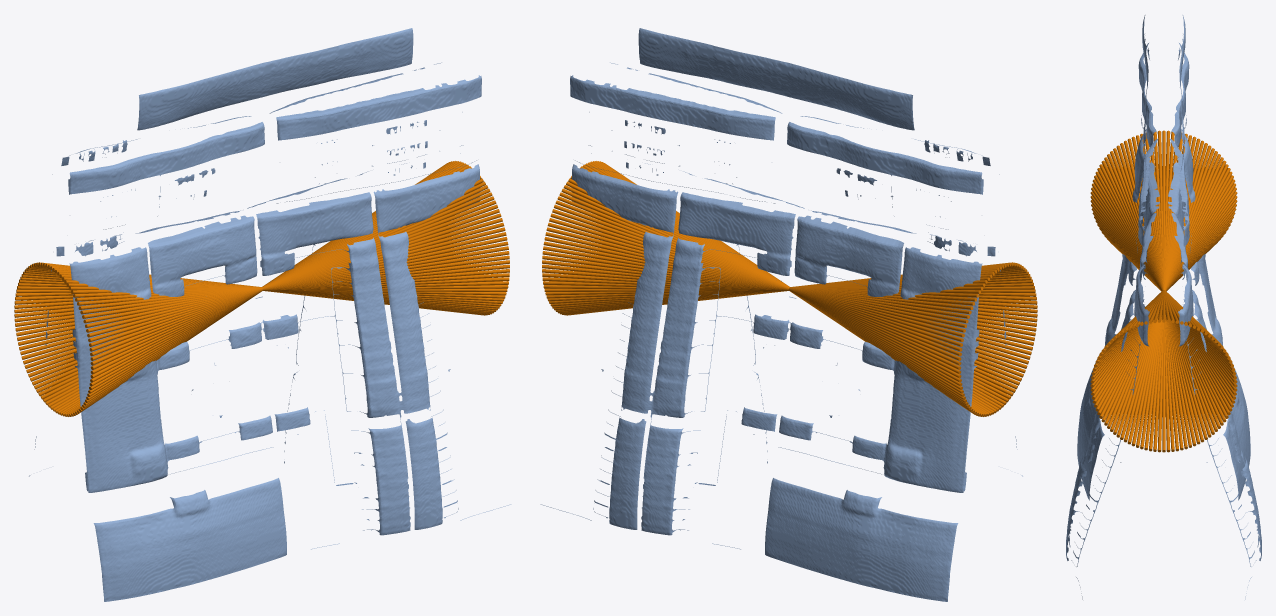
File: Q65090455_6150-37-547-0692_DigitalTwin.glb
3 views of the same model, side by side, from view 1: azimuth 30°, elevation 25°; view 2: azimuth 150°, elevation 25°; view 3: azimuth 270°, elevation 25° (orthographic). The views are drawn at different scales.
Visible parts, largest first — view 1: world; view 2: world; view 3: world.
Part boxes in pixels (box(x1,y1,x2,y2)): world: box(14, 28, 511, 601); world: box(540, 28, 1037, 601); world: box(1066, 15, 1261, 599).
Size of the model in its own units: 521 by 557 by 227.
